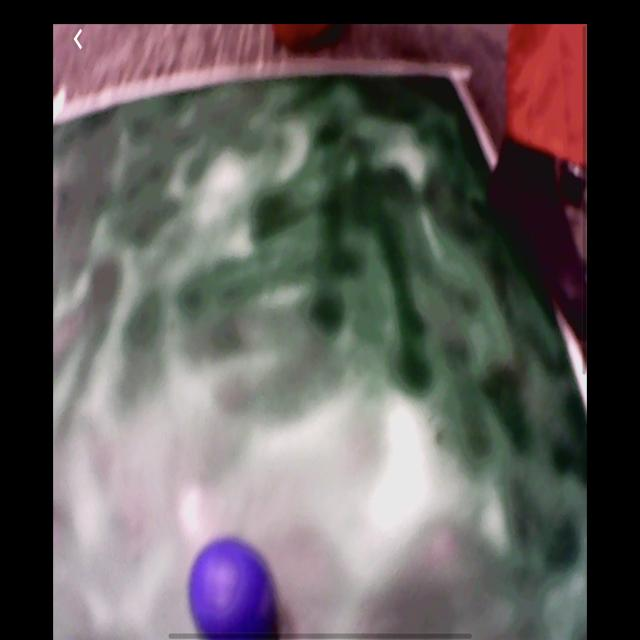ball: (189, 541, 279, 635)
